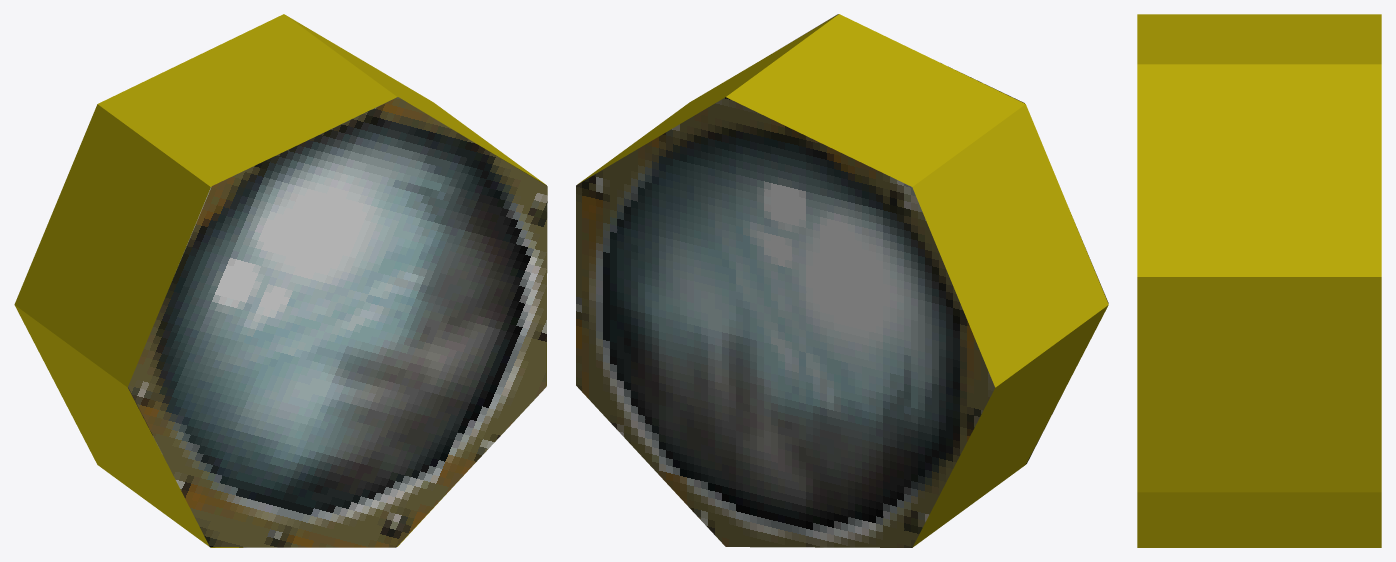
The model's file is Schiff_Bullauge_1326.glb.
The picture shows the model from 3 angles, left to right: view 1: azimuth 30°, elevation 25°; view 2: azimuth 150°, elevation 25°; view 3: azimuth 270°, elevation 25°; orthographic projection. The views are drawn at different scales.
Visible parts, largest first — view 1: polySurfaceShape2, polySurfaceShape4; view 2: polySurfaceShape3, polySurfaceShape4; view 3: polySurfaceShape4.
Part boxes in pixels (box(x1,y1,x2,y2)): polySurfaceShape2: box(128, 97, 547, 547); polySurfaceShape4: box(14, 14, 546, 547); polySurfaceShape3: box(576, 97, 995, 547); polySurfaceShape4: box(577, 14, 1108, 547); polySurfaceShape4: box(1137, 14, 1381, 547).
Bounding box in the file's own units: 0.1192 × 0.1222 × 0.0558.
3 materials, 2 textured.
